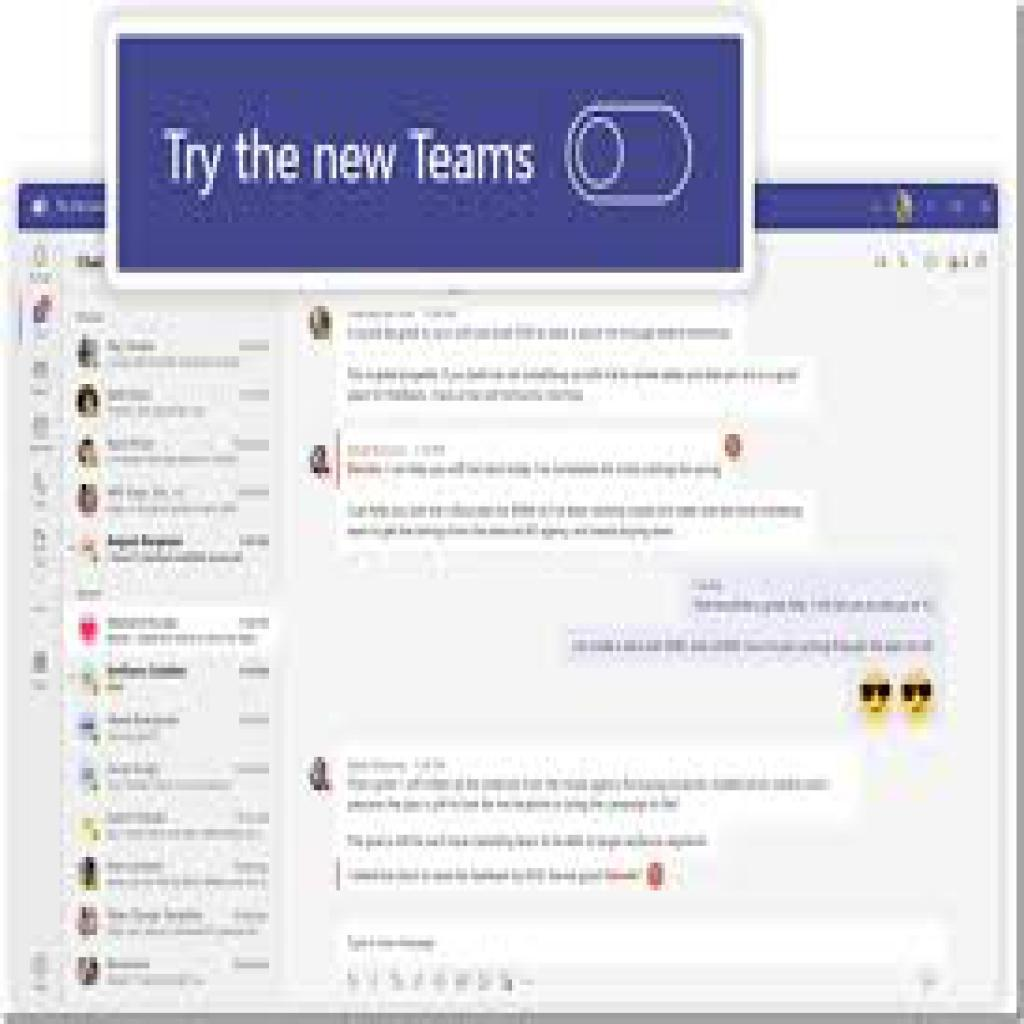label: (161, 118, 541, 200)
switch: (564, 103, 695, 208)
